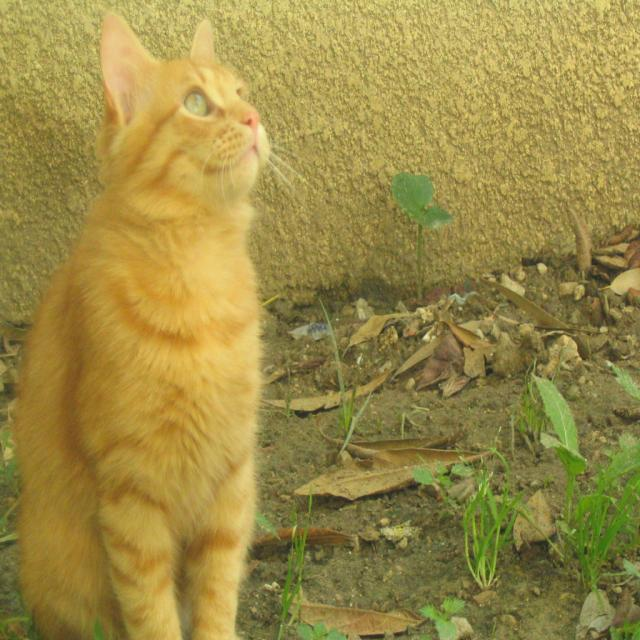Cat: (12, 7, 314, 638)
